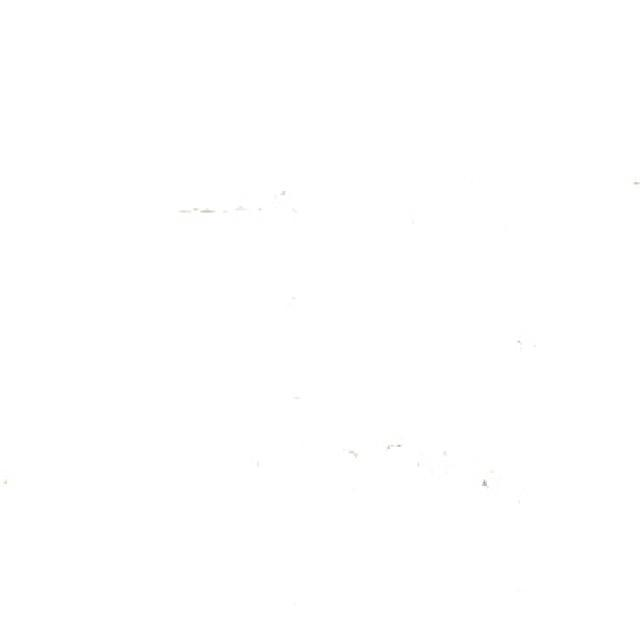crack: (170, 182, 315, 227)
